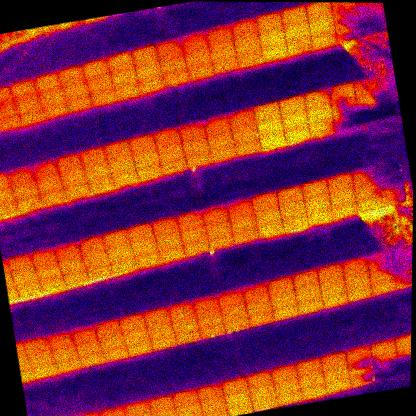Hotspot: (235, 46, 264, 68), (166, 300, 196, 319), (348, 369, 377, 388), (157, 245, 186, 264), (136, 161, 163, 181), (185, 148, 212, 168), (83, 160, 110, 180), (245, 296, 273, 315), (375, 158, 403, 177), (234, 136, 262, 155), (231, 122, 259, 141), (170, 314, 199, 332), (90, 86, 116, 105), (197, 321, 226, 338), (194, 309, 223, 326), (38, 275, 66, 292), (224, 316, 251, 333), (14, 279, 41, 296), (347, 356, 374, 373), (392, 258, 412, 276), (394, 270, 412, 287)
Normal: (310, 27, 338, 50), (205, 23, 234, 45), (12, 90, 42, 111), (113, 79, 141, 101), (110, 64, 138, 86), (181, 133, 210, 154), (282, 18, 311, 39), (155, 37, 184, 58), (279, 3, 308, 24), (191, 294, 221, 314), (52, 242, 82, 262), (101, 229, 131, 249), (30, 158, 58, 179), (103, 138, 131, 159), (253, 100, 281, 121), (130, 43, 158, 64), (316, 263, 345, 283), (256, 219, 285, 239), (30, 248, 59, 268), (126, 223, 155, 243), (176, 210, 205, 230), (162, 66, 191, 86), (186, 60, 215, 80), (285, 34, 314, 54), (230, 17, 259, 37), (39, 185, 66, 206), (111, 166, 138, 187), (257, 114, 284, 135), (179, 118, 206, 139), (66, 93, 93, 114), (261, 40, 288, 61), (182, 236, 210, 256), (330, 200, 358, 220), (160, 155, 188, 175), (132, 147, 160, 167), (202, 113, 230, 133), (227, 107, 255, 127), (278, 94, 306, 114), (137, 73, 165, 93), (211, 54, 239, 74), (134, 58, 162, 78), (57, 64, 85, 84), (181, 30, 209, 50), (4, 254, 33, 273), (77, 235, 106, 254), (305, 103, 334, 122), (152, 126, 181, 145), (105, 50, 134, 69), (68, 324, 98, 342), (215, 289, 245, 307), (324, 374, 351, 394), (226, 200, 256, 218), (63, 179, 90, 199), (210, 142, 237, 162), (60, 166, 87, 186), (129, 133, 156, 153), (18, 106, 45, 126), (42, 100, 69, 120), (61, 78, 88, 98), (85, 71, 112, 91), (259, 26, 286, 46), (173, 326, 201, 345), (45, 330, 73, 349), (266, 275, 294, 294), (109, 255, 137, 274), (254, 205, 282, 224), (152, 217, 180, 236), (328, 185, 356, 204), (276, 186, 304, 205), (326, 170, 354, 189), (283, 123, 311, 142), (7, 165, 35, 184), (206, 128, 234, 147), (55, 152, 83, 171), (281, 110, 309, 129), (233, 32, 261, 51), (148, 332, 177, 350), (73, 337, 102, 355), (296, 295, 325, 313), (344, 281, 373, 299), (104, 243, 133, 261), (303, 192, 332, 210), (251, 192, 280, 210), (208, 40, 237, 58), (108, 152, 134, 172), (320, 288, 347, 307), (133, 249, 160, 268), (356, 192, 383, 211), (157, 140, 184, 159), (79, 146, 106, 165), (37, 86, 64, 105), (308, 13, 335, 32), (256, 12, 283, 31), (57, 257, 87, 274), (275, 388, 303, 406), (26, 348, 54, 366), (146, 319, 174, 337), (219, 302, 247, 320), (269, 290, 297, 308), (94, 318, 122, 336), (119, 312, 147, 330), (242, 282, 270, 300), (305, 205, 333, 223), (279, 200, 307, 218), (247, 381, 275, 399), (301, 178, 329, 196), (322, 362, 350, 380), (308, 118, 336, 136), (270, 363, 298, 381), (159, 55, 187, 73), (32, 72, 60, 90), (81, 58, 109, 76), (101, 344, 129, 362), (36, 173, 62, 192), (271, 303, 300, 320), (121, 326, 150, 343), (142, 308, 171, 325), (206, 232, 235, 249), (231, 226, 260, 243), (81, 250, 110, 267), (204, 220, 233, 237), (228, 213, 257, 230), (245, 369, 274, 386), (202, 206, 229, 224), (298, 369, 325, 387), (12, 179, 39, 197), (259, 131, 286, 149), (184, 46, 211, 64), (345, 343, 372, 361), (125, 338, 153, 355), (97, 332, 125, 349), (23, 336, 51, 353), (318, 278, 346, 295), (10, 268, 38, 285), (179, 225, 207, 242), (87, 175, 115, 192), (171, 388, 199, 405), (295, 357, 323, 374), (320, 351, 348, 368), (31, 362, 59, 379), (54, 355, 82, 372), (16, 193, 42, 211), (9, 78, 35, 96), (51, 343, 78, 360), (343, 269, 370, 286), (61, 267, 88, 284), (224, 388, 251, 405), (77, 350, 104, 367), (247, 310, 275, 326), (293, 283, 321, 299), (292, 270, 320, 286), (341, 256, 369, 272), (130, 238, 158, 254), (154, 233, 182, 249), (123, 400, 151, 416), (147, 394, 175, 410), (369, 339, 397, 355), (197, 382, 223, 399), (300, 382, 327, 398), (175, 400, 202, 416), (199, 394, 226, 410), (85, 263, 112, 279), (35, 264, 62, 280), (281, 214, 308, 230), (273, 377, 300, 393), (221, 376, 248, 392), (251, 395, 278, 411), (0, 112, 21, 132), (225, 401, 253, 416), (370, 277, 396, 293), (305, 2, 332, 17), (0, 97, 17, 118), (98, 404, 125, 416), (150, 405, 177, 416), (203, 405, 229, 416), (394, 332, 411, 348), (0, 84, 13, 103), (74, 410, 101, 416), (126, 411, 153, 416)
Shadow: (377, 171, 406, 192), (328, 80, 357, 101), (353, 178, 381, 199), (334, 23, 362, 43), (302, 88, 331, 107), (358, 17, 387, 36), (355, 3, 384, 22), (367, 263, 396, 281), (329, 97, 358, 115), (380, 187, 407, 206), (351, 166, 378, 185), (355, 91, 382, 110), (332, 8, 359, 27), (332, 111, 360, 129), (357, 105, 384, 123), (353, 77, 380, 95), (366, 250, 394, 267), (373, 364, 401, 381), (372, 350, 399, 367), (390, 243, 412, 261), (329, 2, 357, 13), (396, 344, 411, 361), (398, 357, 411, 374)
